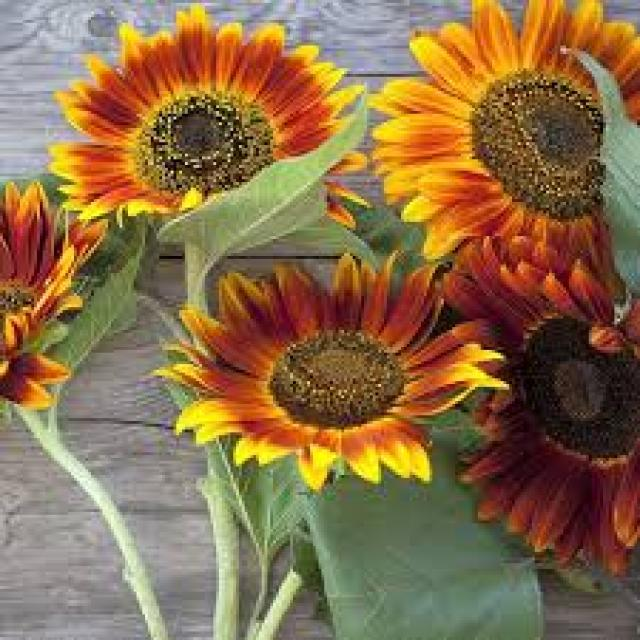sunflower: (146, 246, 519, 502), (46, 0, 380, 277), (398, 210, 636, 592), (354, 1, 640, 292), (0, 159, 128, 435)
